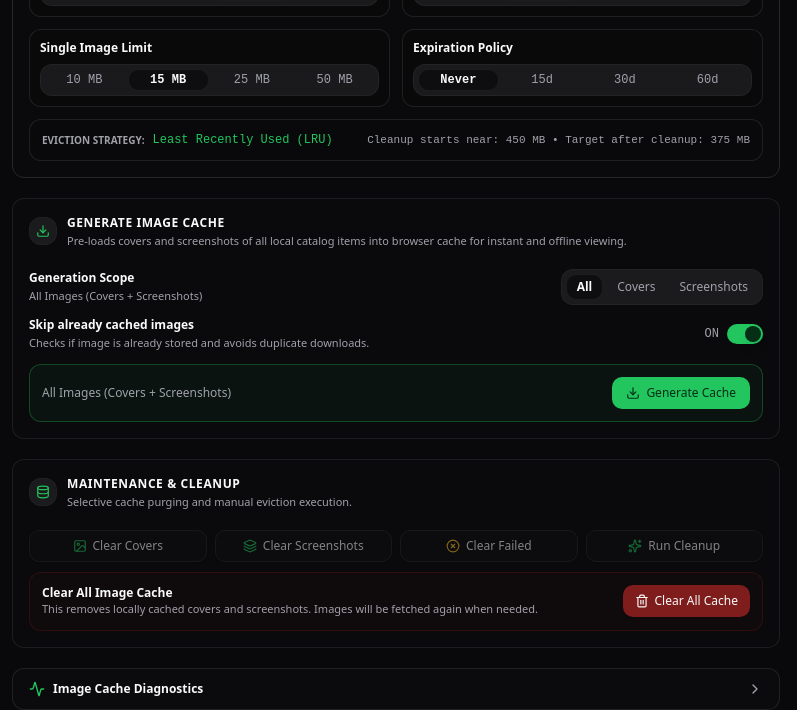
Test: ImageSettings integration tests (V3-16) › expands diagnostics section and displays IndexedDB status
(page scrolled)
Click the button "Image Cache Diagnostics".
click(128, 688)  # box [13,668,779,708]
(page scrolled)
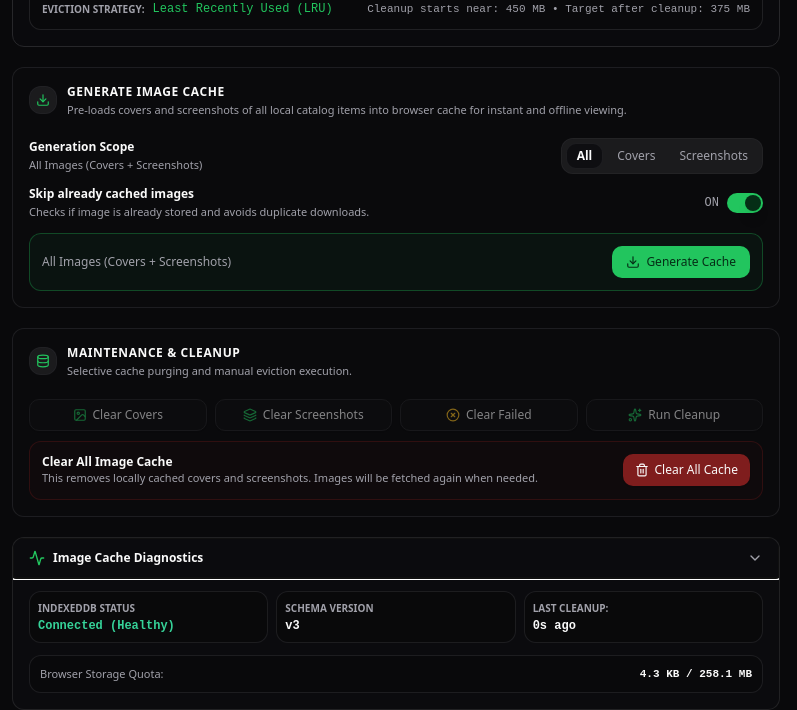
Check: the text "IndexedDB Status" is shown, box [38,600,135,614]
Check: the text "Connected (Healthy)" is shown, box [38,618,175,632]
Check: the text "v3" is shown, box [285,618,300,632]
